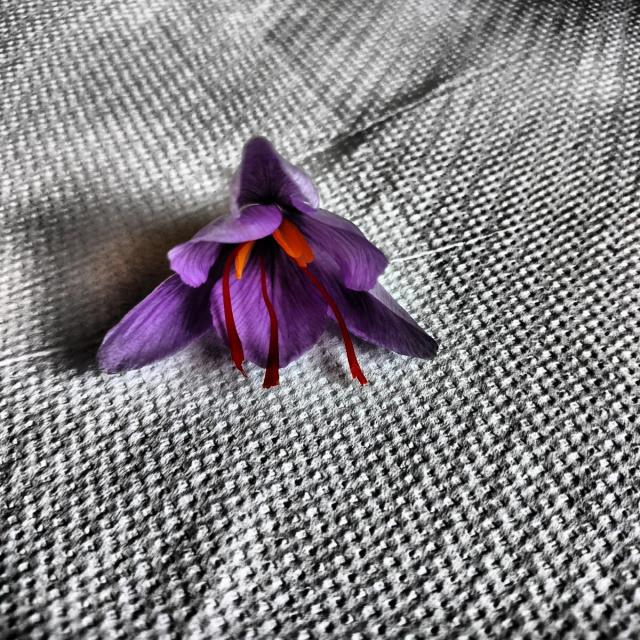Flower: (83, 133, 444, 400)
stigma: (305, 255, 379, 386), (248, 237, 294, 398), (207, 239, 254, 391)
